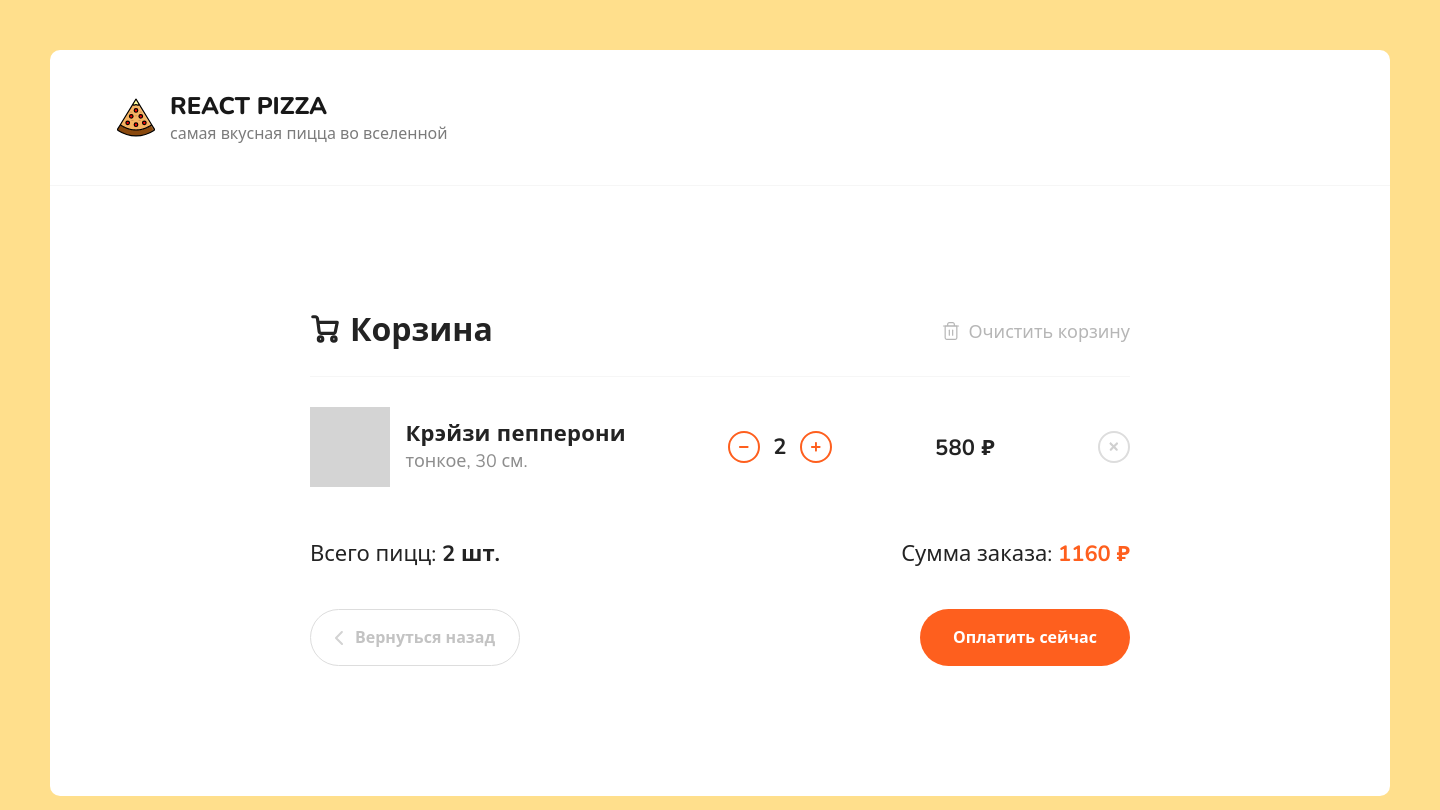
Test: test cart component › decrease pizza
The image size is (1440, 810).
Click the button with test id "decrease" at [744, 447], box [728,431,760,463]
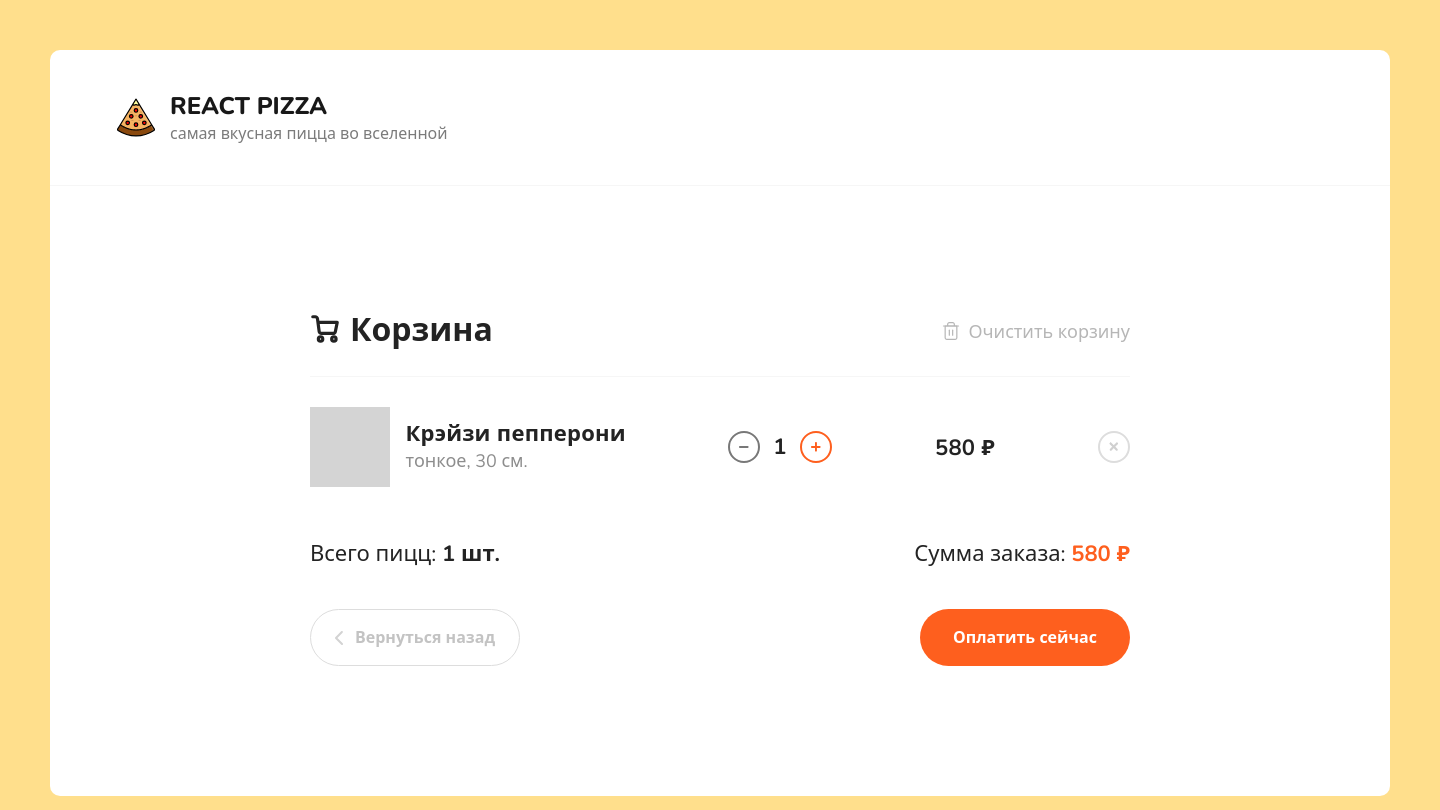
Check: the text "580 ₽" next to "Сумма заказа:" is shown, box [1071,539,1111,569]
